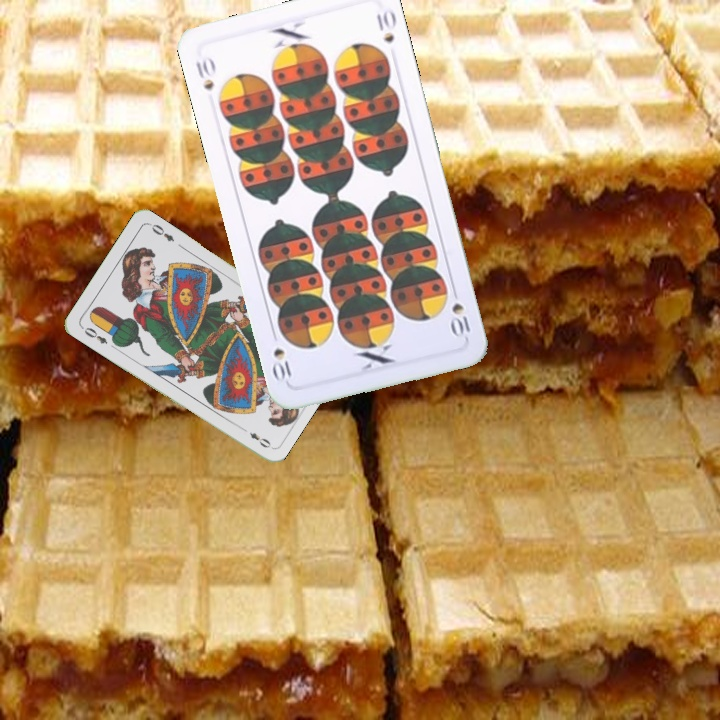EO: (77, 323, 110, 347)
S10: (447, 298, 473, 341), (192, 53, 218, 94)
